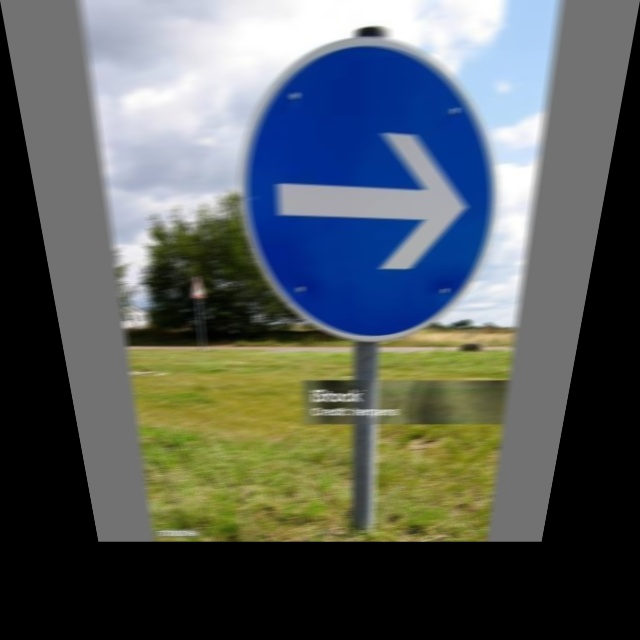Compulsory_Turn_Right: (234, 37, 519, 336)
